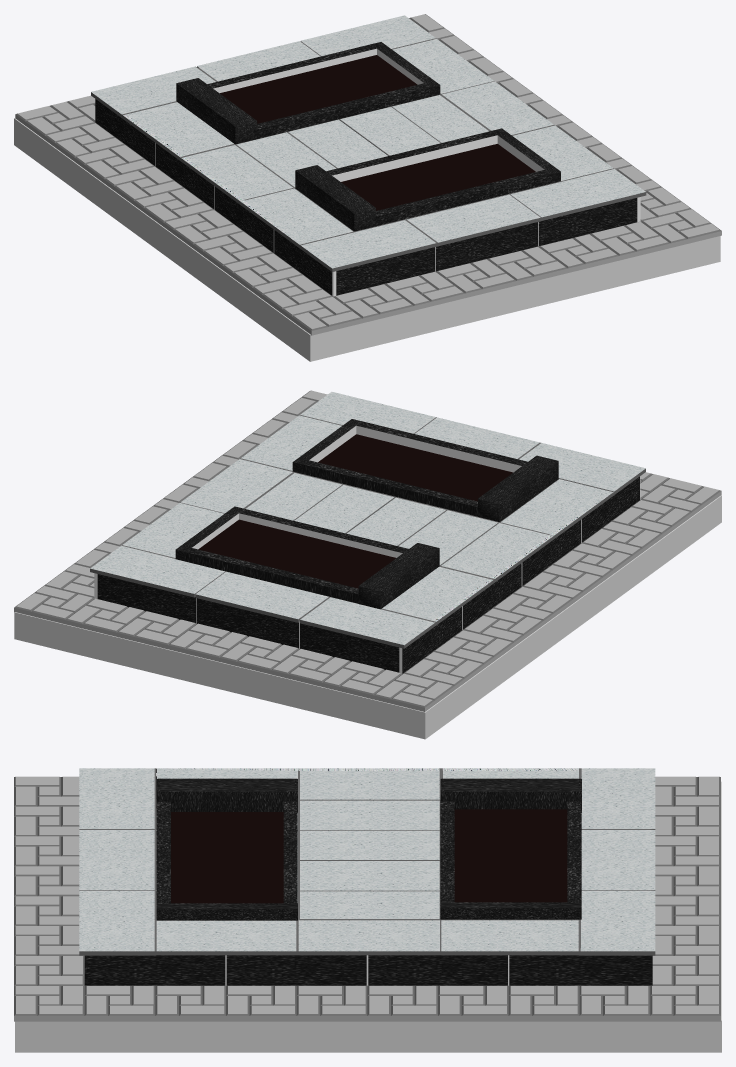
File: 240-180-15 мансур [u_2_u].glb
3 views of the same model, one above another, from view 1: azimuth 30°, elevation 25°; view 2: azimuth 150°, elevation 25°; view 3: azimuth 270°, elevation 25° (orthographic). The views are drawn at different scales.
Visible parts, largest first — view 1: plitka.003, Cube.165, Cube.163, Cube.167, Cube.168, Cube.171, Куб.219, Plane.011, Plane.007, Куб.231, Куб.209, Куб.208 (+6 smaller); view 2: plitka.003, Cube.165, Cube.163, Cube.171, Cube.168, Cube.167, Куб.207, Plane.011, Plane.007, Куб.231, Куб.226, Куб.208 (+6 smaller); view 3: plitka.003, Cube.165, Cube.163, Куб.230, Cube.168, Cube.167, Cube.171, Plane.011, Plane.007, Куб.208, Куб.226, Куб.228 (+5 smaller).
Part boxes in pixels (box(x1,y1,x2,y2)): plitka.003: box(15, 14, 721, 335); Cube.165: box(121, 94, 488, 248); Cube.163: box(14, 118, 720, 361); Cube.167: box(300, 168, 646, 271); Cube.168: box(392, 39, 613, 181); Cube.171: box(91, 15, 436, 117); Куб.219: box(332, 198, 637, 296); Plane.011: box(220, 55, 417, 123); Plane.007: box(341, 144, 535, 210); Куб.231: box(95, 99, 332, 295); Куб.209: box(376, 169, 551, 226); Куб.208: box(295, 165, 375, 231); plitka.003: box(14, 390, 721, 711); Cube.165: box(246, 472, 613, 625); Cube.163: box(14, 495, 721, 739); Cube.171: box(90, 545, 435, 648); Cube.168: box(123, 415, 341, 557); Cube.167: box(300, 391, 645, 494); Куб.207: box(97, 574, 402, 673); Plane.011: box(198, 519, 395, 588); Plane.007: box(318, 434, 512, 501); Куб.231: box(402, 476, 639, 673); Куб.226: box(358, 543, 439, 609); Куб.208: box(478, 455, 558, 521); plitka.003: box(14, 776, 720, 1021); Cube.165: box(156, 768, 578, 919); Cube.163: box(15, 781, 721, 1052); Куб.230: box(84, 955, 652, 985); Cube.168: box(156, 919, 578, 955); Cube.167: box(79, 768, 156, 955); Cube.171: box(578, 768, 655, 955); Plane.011: box(454, 809, 567, 902); Plane.007: box(171, 812, 283, 903); Куб.208: box(156, 778, 297, 812); Куб.226: box(440, 778, 581, 812); Куб.228: box(440, 902, 581, 919).
Size of the model in its own units: 2.41 by 0.4464 by 3.
8 materials, 3 textured.
